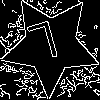L: (26, 20, 63, 72)
